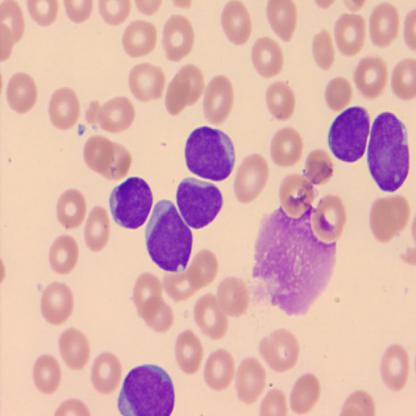Blast: (143, 194, 196, 276), (365, 109, 411, 195), (183, 122, 237, 185), (175, 172, 226, 232), (106, 172, 155, 230), (327, 104, 372, 166)
